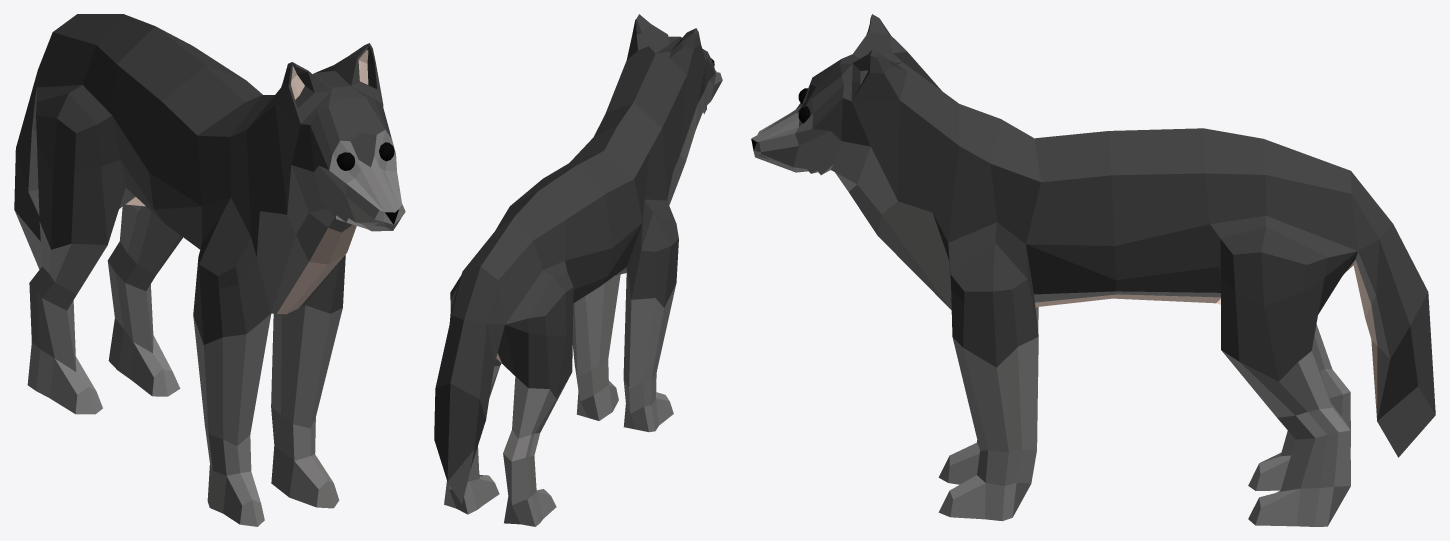
The model's file is coyote (1).fbx.
3 renders of one model, left to right at view 1: azimuth 30°, elevation 25°; view 2: azimuth 150°, elevation 25°; view 3: azimuth 270°, elevation 25°, orthographic. The views are drawn at different scales.
Visible parts, largest first — view 1: Coyote; view 2: Coyote; view 3: Coyote.
Boxes of the visible parts, x1,y1,x2,y2 form: Coyote: (14, 14, 405, 526); Coyote: (434, 14, 722, 526); Coyote: (751, 14, 1435, 526).
Bounding box in the file's own units: 57.46 × 195 × 257.
